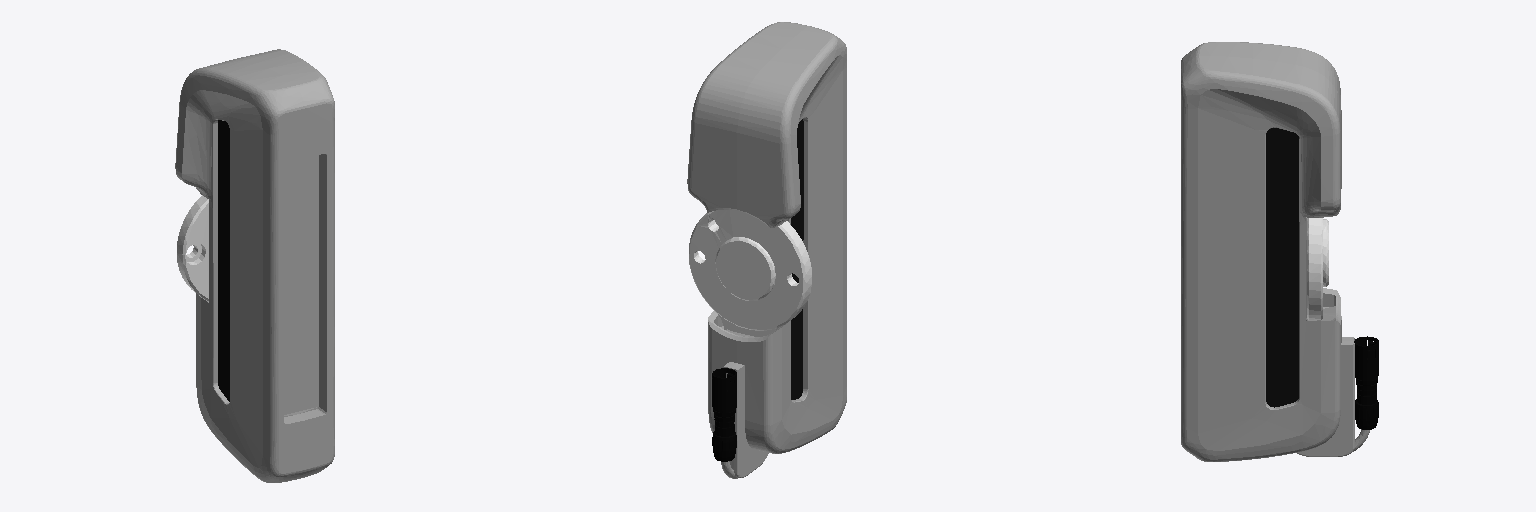
Rendered from panda_left_hand_geometry_panda_hand.obj.
The picture shows the model from 3 angles: view 1: azimuth 30°, elevation 25°; view 2: azimuth 150°, elevation 25°; view 3: azimuth 270°, elevation 25°; orthographic projection.
Bounding box in the file's own units: 0.063 × 0.2045 × 0.092.